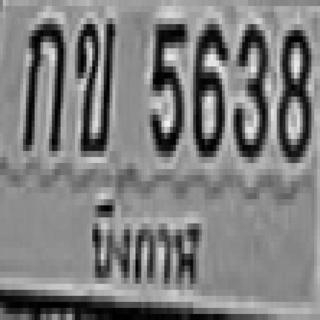A01: (20, 15, 63, 148)
A02: (74, 12, 114, 151)
N03: (231, 18, 265, 157)
N05: (147, 18, 184, 151)
N06: (190, 18, 225, 151)
N08: (277, 24, 308, 157)
P05: (86, 190, 205, 303)
